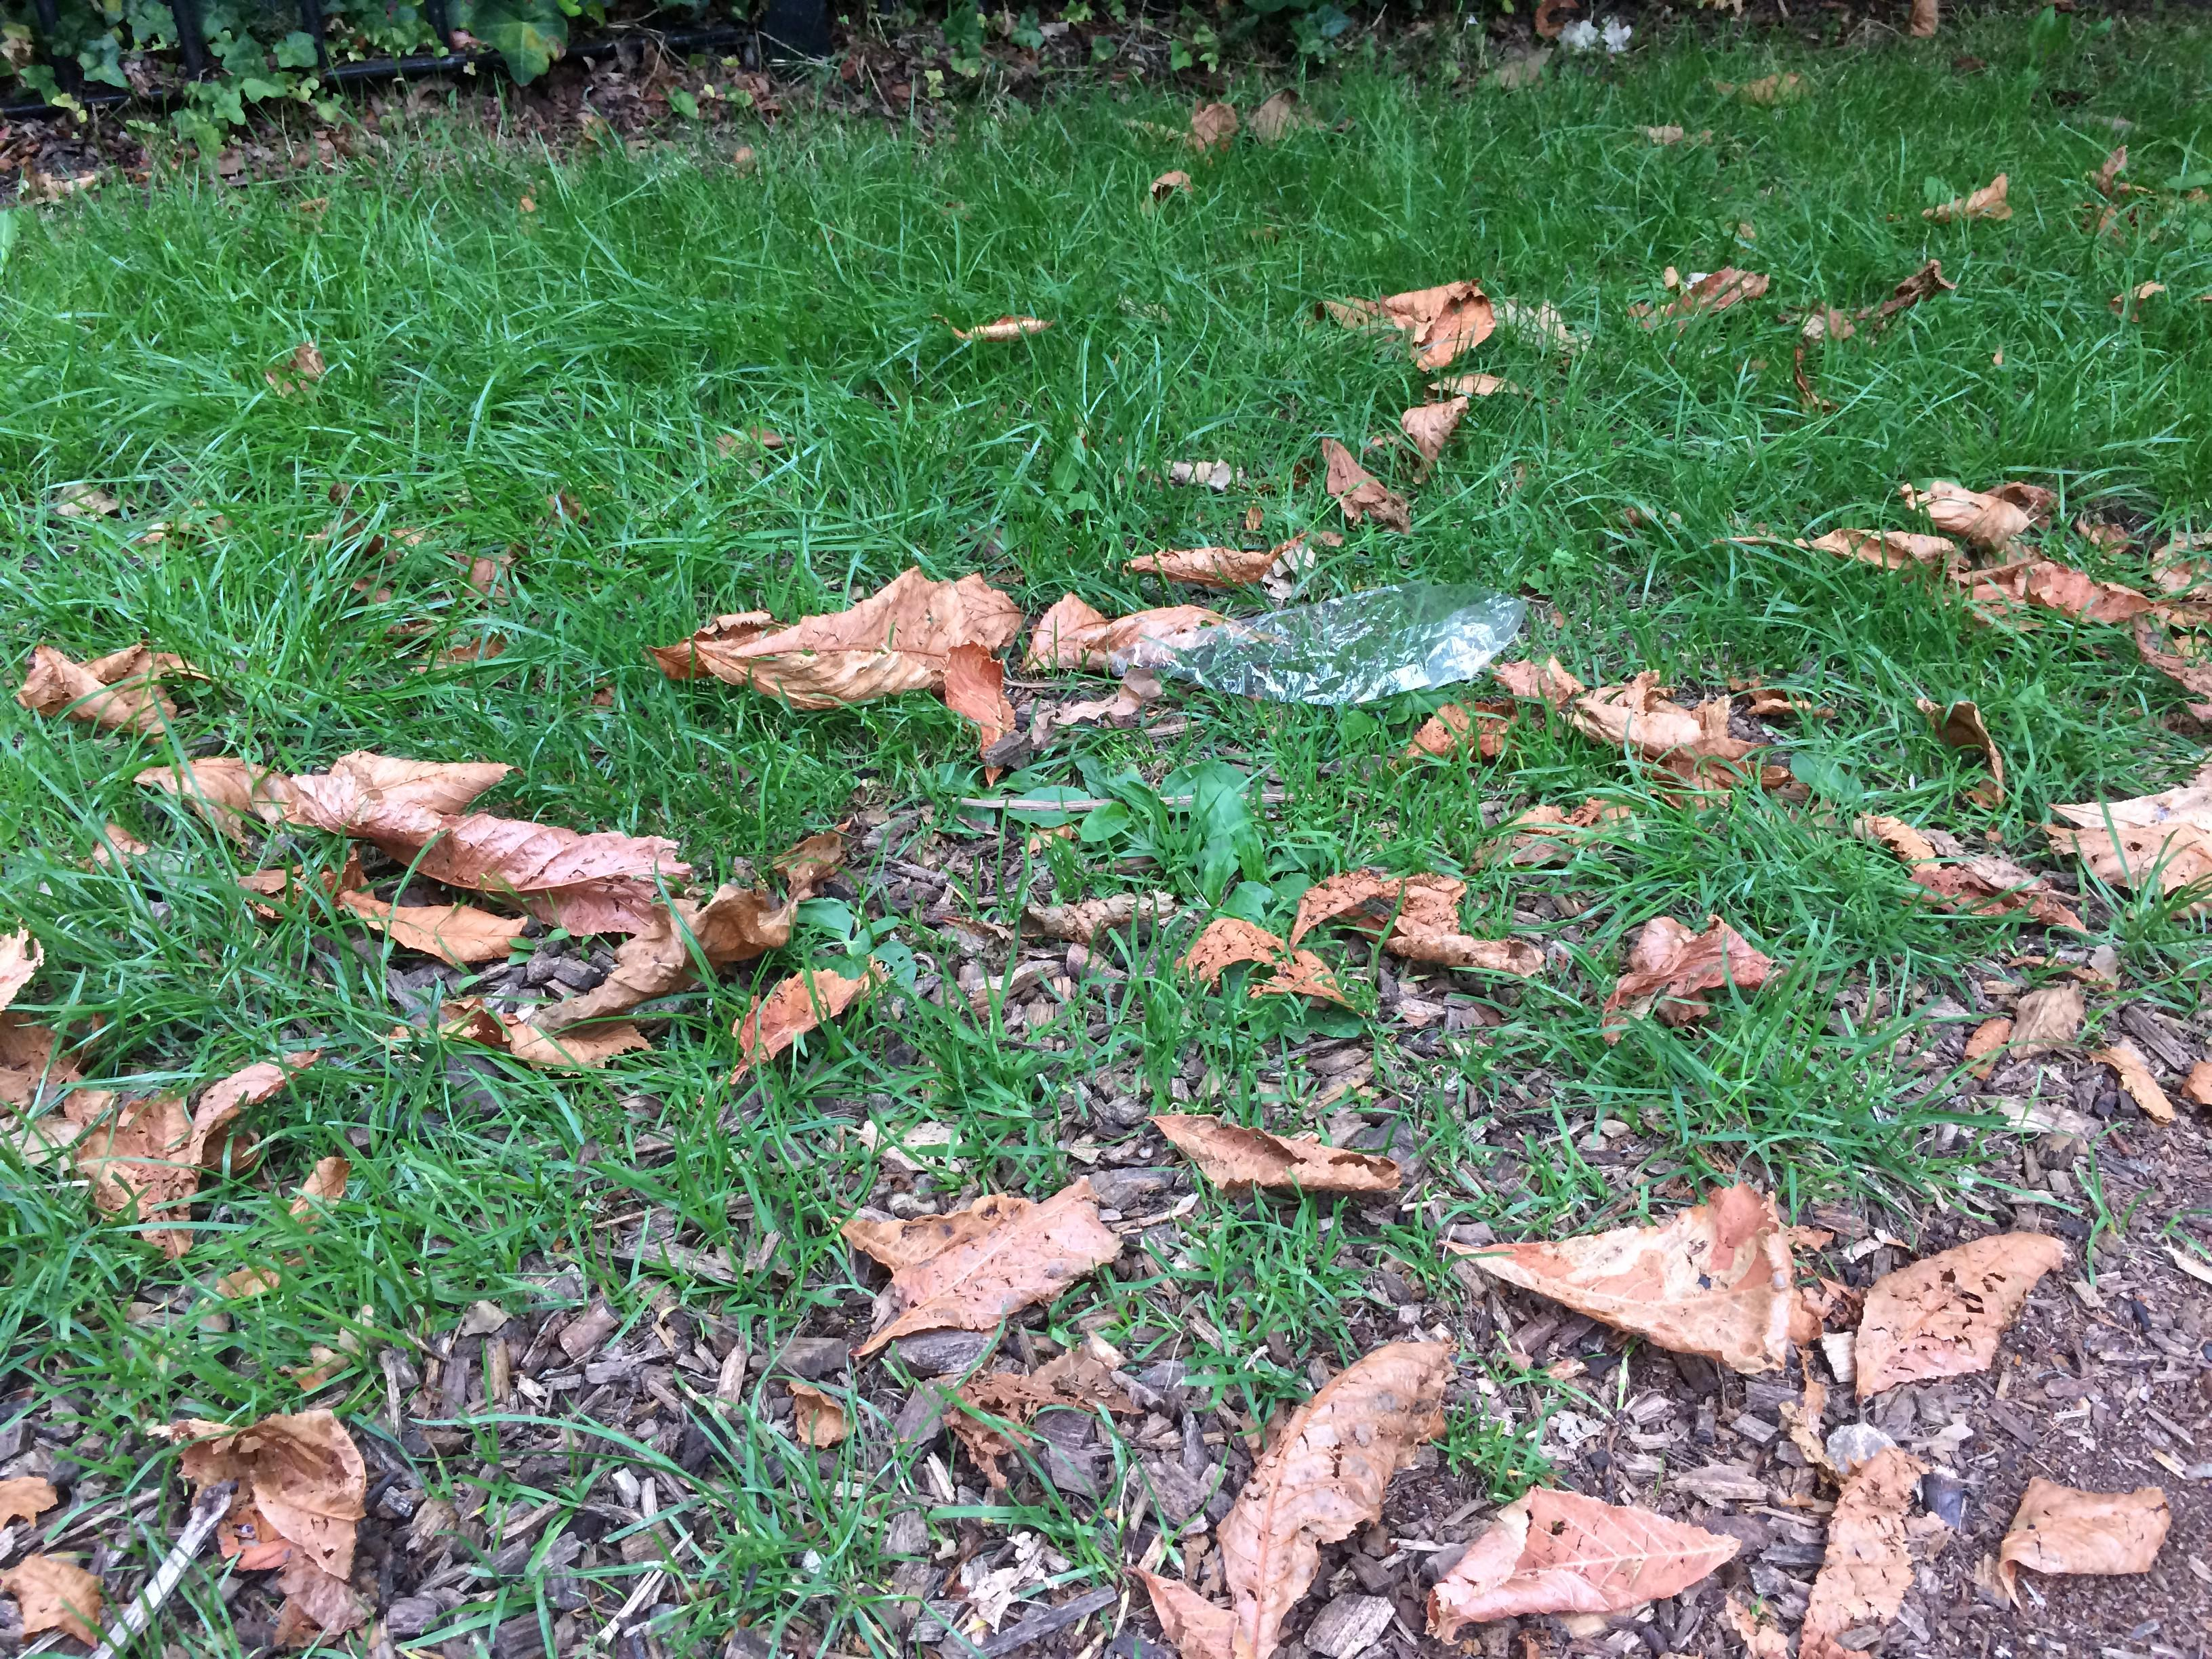Trash: (1122, 556, 1536, 720)
